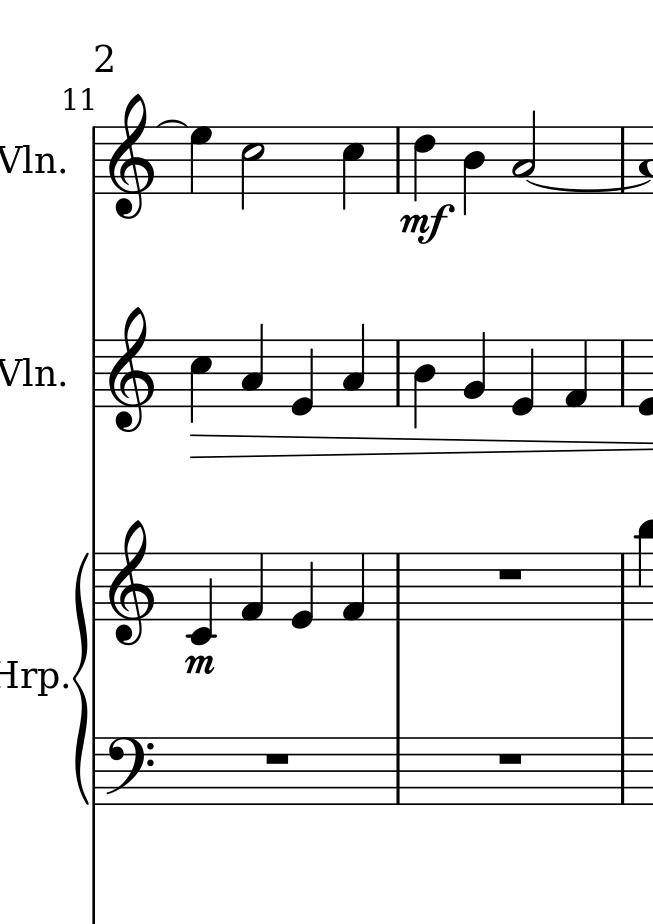1: (79, 86, 95, 114), (62, 87, 76, 113)
2: (93, 43, 114, 73)
2_3: (509, 108, 538, 196)
2_5: (239, 126, 265, 211)
4_-2: (187, 551, 216, 647)
4_0: (509, 337, 536, 419), (289, 338, 315, 419), (289, 551, 315, 632)
4_1: (562, 337, 589, 408), (238, 551, 265, 622), (340, 550, 367, 621)
4_2: (461, 329, 488, 409)
4_3: (341, 322, 367, 407), (240, 323, 265, 407)
4_4: (411, 338, 437, 430), (462, 125, 488, 216)
4_5: (340, 125, 365, 211), (189, 338, 212, 425)
4_6: (411, 125, 435, 204)
4_7: (188, 125, 213, 196)
Brace: (73, 548, 90, 804)
Fclef: (103, 735, 155, 804)
Gclef: (106, 306, 157, 438), (106, 518, 157, 647), (107, 93, 155, 222)
Hrp: (1, 661, 59, 696)
Rests1: (261, 749, 292, 768), (495, 566, 525, 583), (495, 750, 524, 767)
Single_barline: (389, 127, 407, 194), (615, 339, 632, 407), (86, 339, 102, 408), (615, 737, 631, 805), (616, 127, 632, 194), (390, 340, 406, 405), (390, 553, 405, 621), (390, 737, 405, 805), (88, 552, 102, 624), (616, 553, 631, 620), (87, 127, 101, 194), (88, 737, 101, 805)
Slur: (527, 178, 653, 192), (154, 119, 190, 129)
Vln: (1, 140, 57, 181), (1, 352, 57, 393)
m: (181, 650, 218, 679)
mf: (398, 204, 456, 248)
